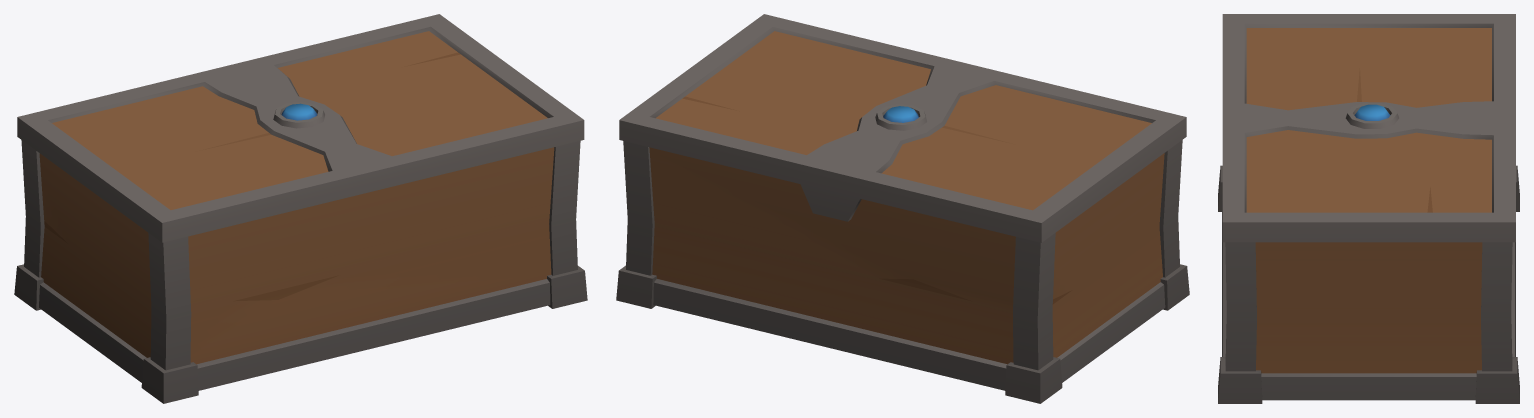
Rendered from ChestLarge.fbx.
3 renders of one model, left to right at view 1: azimuth 30°, elevation 25°; view 2: azimuth 150°, elevation 25°; view 3: azimuth 270°, elevation 25°, orthographic.
Parts seen in each view (by area): view 1: ChestLarge, ChestLarge_Lid; view 2: ChestLarge, ChestLarge_Lid; view 3: ChestLarge_Lid, ChestLarge.
Part boxes in pixels (x1,y1,x2,y2): ChestLarge: [14, 140, 587, 403]; ChestLarge_Lid: [17, 14, 584, 242]; ChestLarge: [616, 140, 1189, 403]; ChestLarge_Lid: [619, 14, 1186, 242]; ChestLarge_Lid: [1222, 14, 1515, 242]; ChestLarge: [1218, 165, 1519, 403].
Size of the model in its own units: 99.1 by 41.7 by 60.4.
